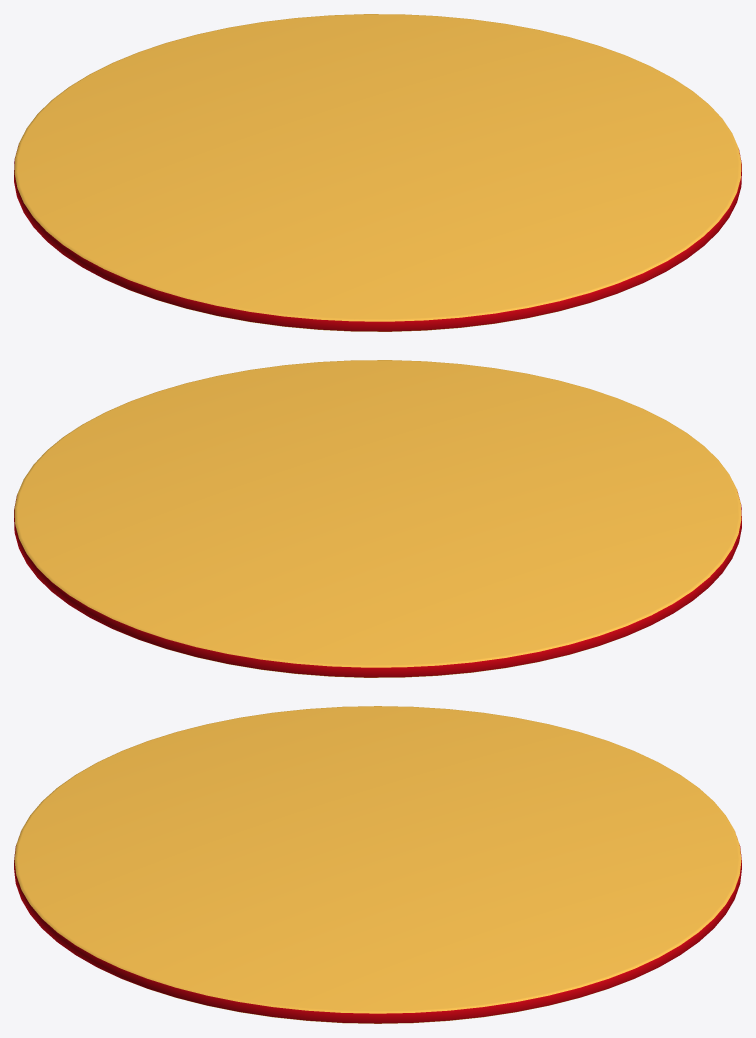
The model's file is SM_Building_Floor_1.fbx.
3 renders of one model, top to bottom at view 1: azimuth 30°, elevation 25°; view 2: azimuth 150°, elevation 25°; view 3: azimuth 270°, elevation 25°, orthographic.
Visible parts, largest first — view 1: SM_Building_Floor_1; view 2: SM_Building_Floor_1; view 3: SM_Building_Floor_1.
Boxes of the visible parts, bbox=[...] form: SM_Building_Floor_1: bbox=[14, 14, 741, 331]; SM_Building_Floor_1: bbox=[14, 360, 741, 677]; SM_Building_Floor_1: bbox=[14, 706, 741, 1023].
Bounding box in the file's own units: 8 × 0.15 × 8.
